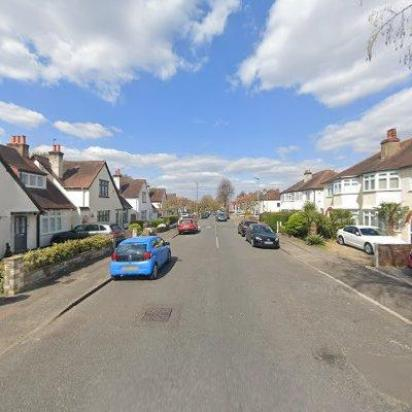moving-car: (214, 212, 228, 222)
stationary-car-offstreet: (338, 223, 408, 257), (48, 222, 123, 252)
stationary-car-onstreet: (110, 234, 172, 282), (244, 223, 280, 251), (236, 217, 260, 236), (176, 217, 200, 234)
